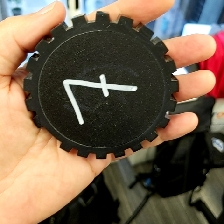gear: (21, 10, 181, 161)
missing: (30, 111, 73, 153)
